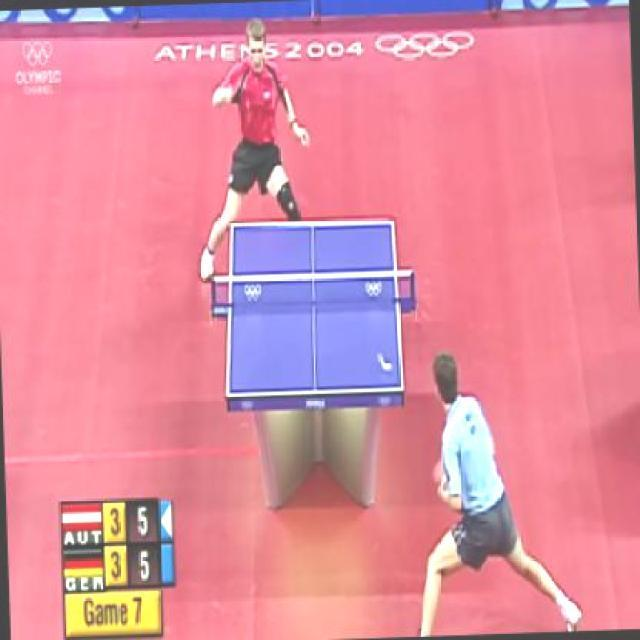non-fight: (414, 342, 566, 636), (190, 20, 312, 228)
